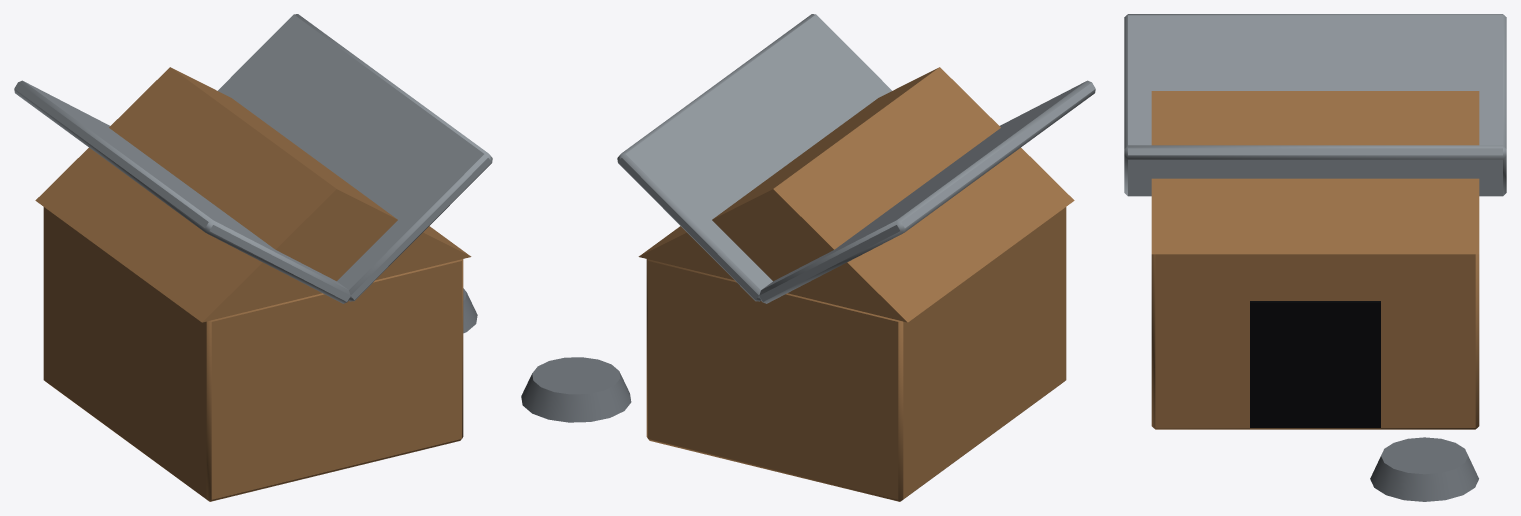
File: cucha.glb
3 views of the same model, side by side, from view 1: azimuth 30°, elevation 25°; view 2: azimuth 150°, elevation 25°; view 3: azimuth 270°, elevation 25° (orthographic).
Parts seen in each view (by area): view 1: cucha; view 2: cucha; view 3: cucha.
Part boxes in pixels (x1=…): cucha: x1=14, y1=14, x2=492, y2=501; cucha: x1=521, y1=14, x2=1095, y2=501; cucha: x1=1124, y1=14, x2=1506, y2=501.
Bounding box in the file's own units: 1.3 × 0.8819 × 1.05.
